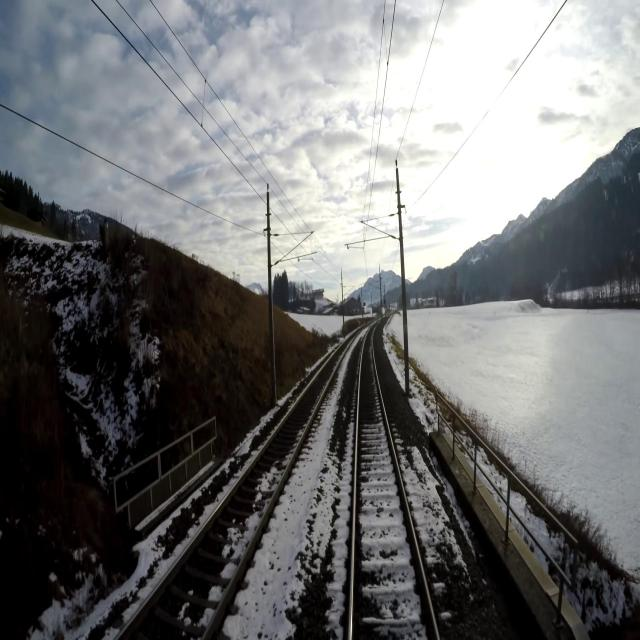rail-track: (120, 337, 352, 639), (352, 327, 436, 639)
